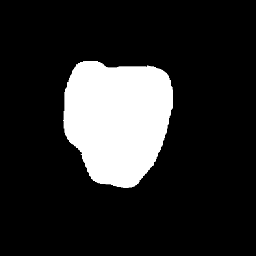mass: (65, 61, 173, 180)
